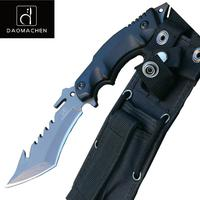knife: (3, 5, 146, 192)
